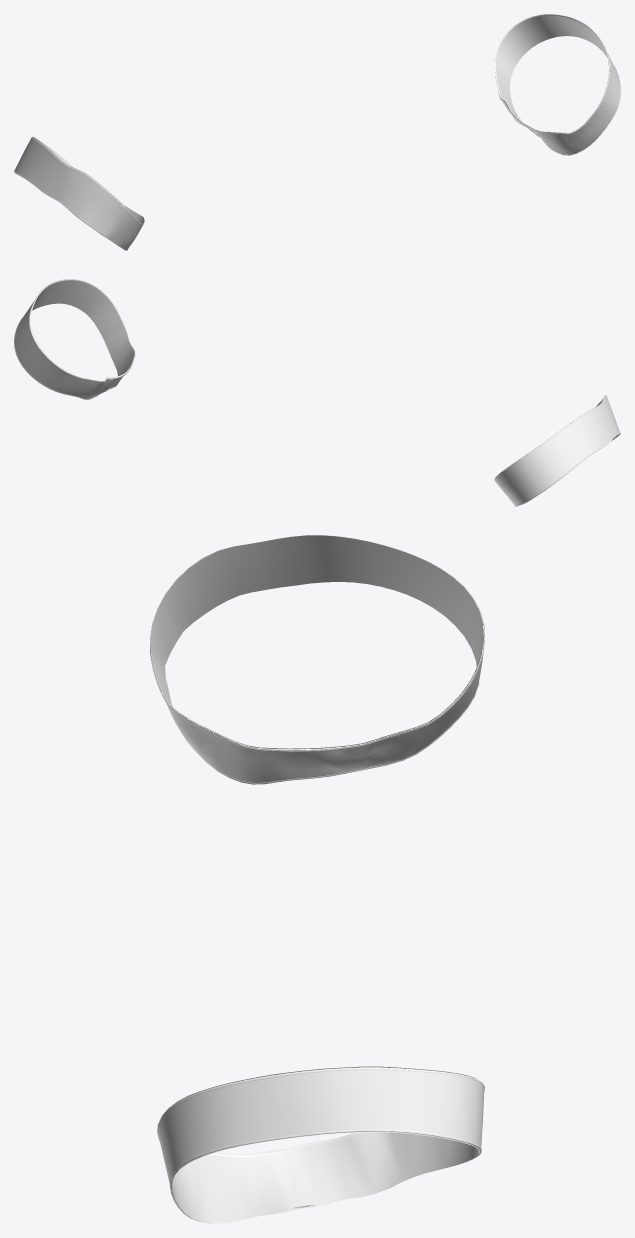
The model's file is Jac_Flic_Full.glb.
The picture shows the model from 3 angles, top to bottom: view 1: azimuth 30°, elevation 25°; view 2: azimuth 150°, elevation 25°; view 3: azimuth 270°, elevation 25°; orthographic projection. The views are drawn at different scales.
Parts seen in each view (by area): view 1: Jac_Flic_Full.001, Jac_Rope_Flic_Full.001; view 2: Jac_Flic_Full.001, Jac_Rope_Flic_Full.001; view 3: Jac_Flic_Full.001, Jac_Rope_Flic_Full.001.
Boxes of the visible parts, x1,y1,x2,y2 form: Jac_Flic_Full.001: [14, 14, 620, 249]; Jac_Rope_Flic_Full.001: [14, 14, 620, 250]; Jac_Flic_Full.001: [14, 279, 620, 506]; Jac_Rope_Flic_Full.001: [14, 279, 620, 506]; Jac_Flic_Full.001: [150, 535, 484, 1223]; Jac_Rope_Flic_Full.001: [150, 535, 484, 1223].
Bounding box in the file's own units: 1.21 × 0.215 × 0.3094.
2 materials, 2 textured.
